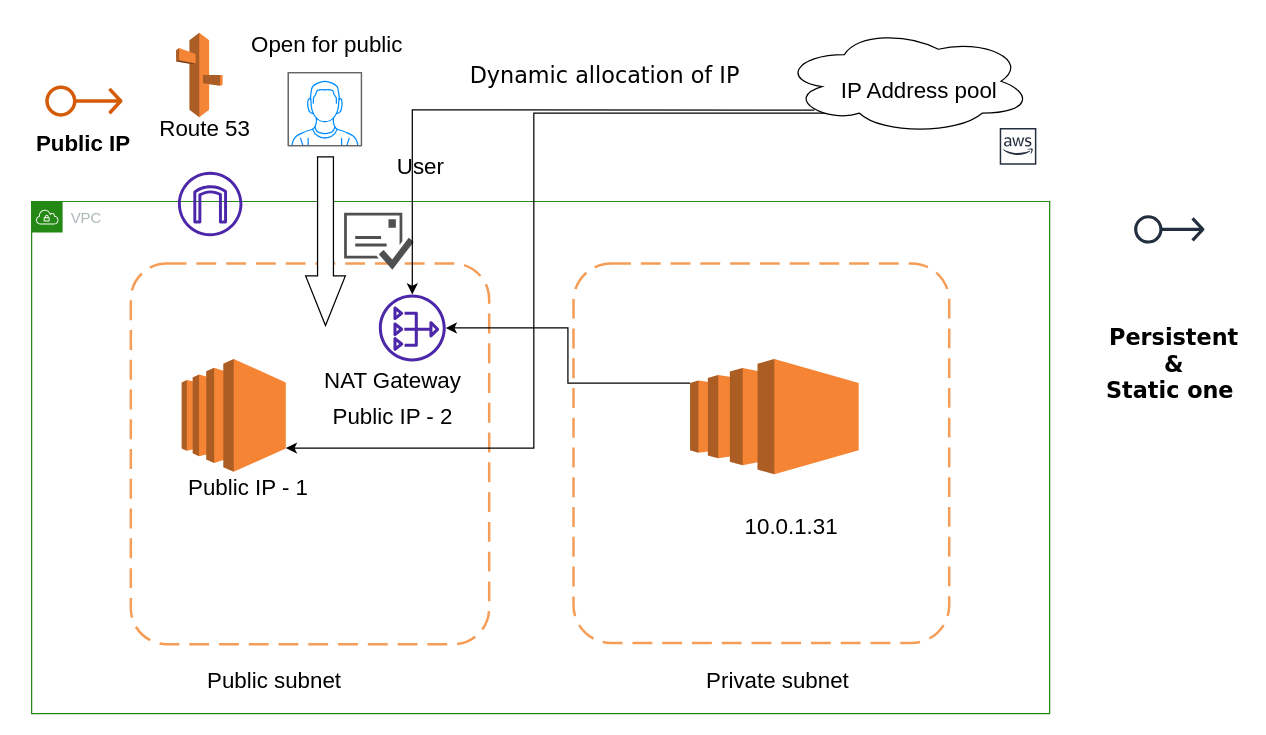
This 1266x735 diagram has some shape labels left out. Each missing label, with the box of its shape:
AWS Cloud: (994, 122, 1041, 169)
Elastic IP Address: (1124, 184, 1213, 273)
